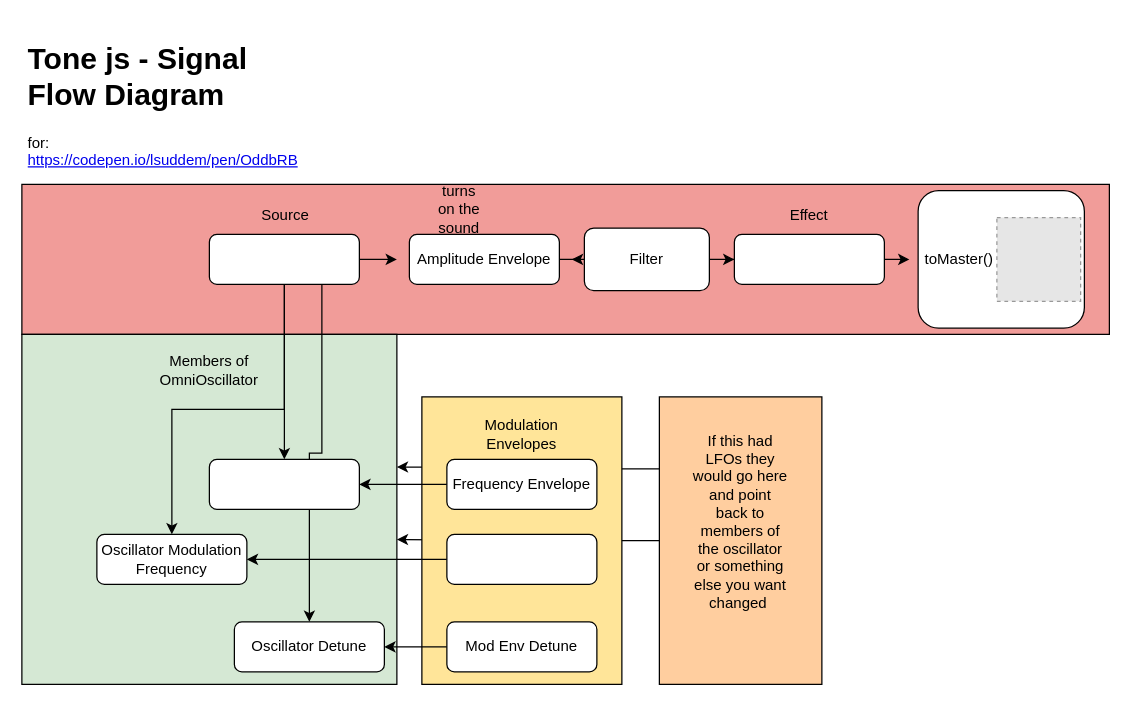
The diagram is 1131 pixels wide and 706 high, and some of its shapes have lost their labels. Grey dashed boxes stand in for pictures. Each missing label, with the centre of its shape:
"Modulation Envelope" goes at [521,558].
"OmniOscillator" goes at [283,258].
"Oscillator Frequency" goes at [283,483].
"Reverb" goes at [808,258].
